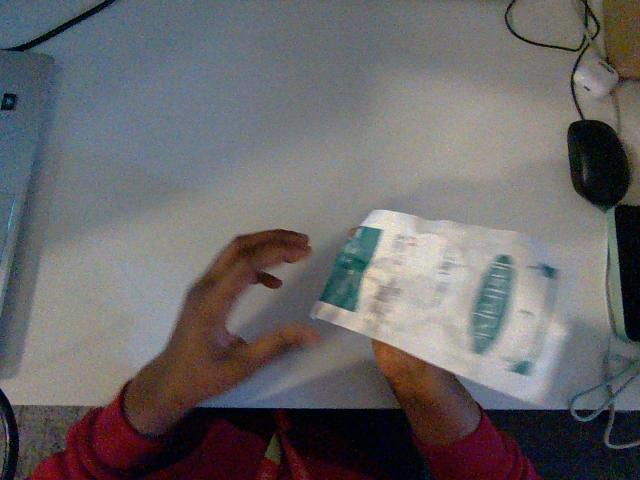gallipot: (311, 210, 567, 402)
